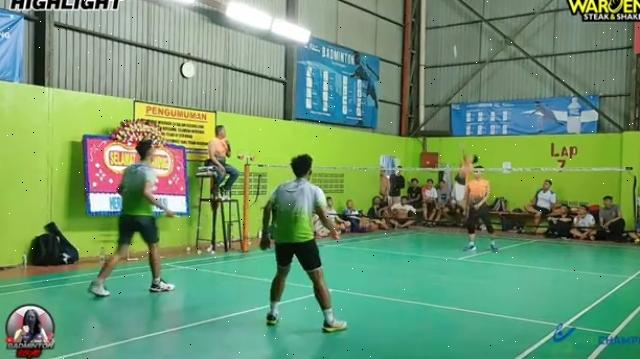Shuttlecock: (450, 46, 460, 58)
